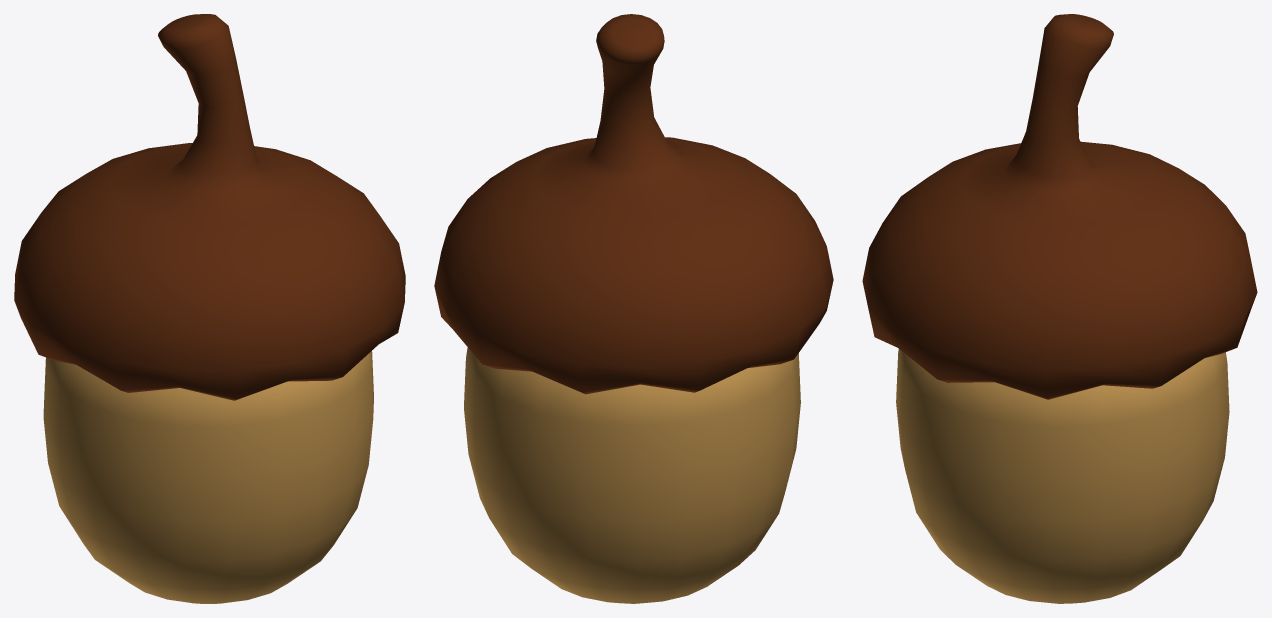
The model's file is Acorn.fbx.
3 views of the same model, side by side, from view 1: azimuth 30°, elevation 25°; view 2: azimuth 150°, elevation 25°; view 3: azimuth 270°, elevation 25° (orthographic).
Parts seen in each view (by area): view 1: Acorn.001, Acorn; view 2: Acorn.001, Acorn; view 3: Acorn.001, Acorn.
Boxes of the visible parts, box(x1,y1,x2,y2) form: Acorn.001: box(14, 14, 405, 400); Acorn: box(43, 351, 373, 603); Acorn.001: box(434, 14, 833, 394); Acorn: box(464, 347, 800, 603); Acorn.001: box(862, 14, 1257, 399); Acorn: box(896, 349, 1229, 603).
Bounding box in the file's own units: 86.88 × 138 × 86.88.
